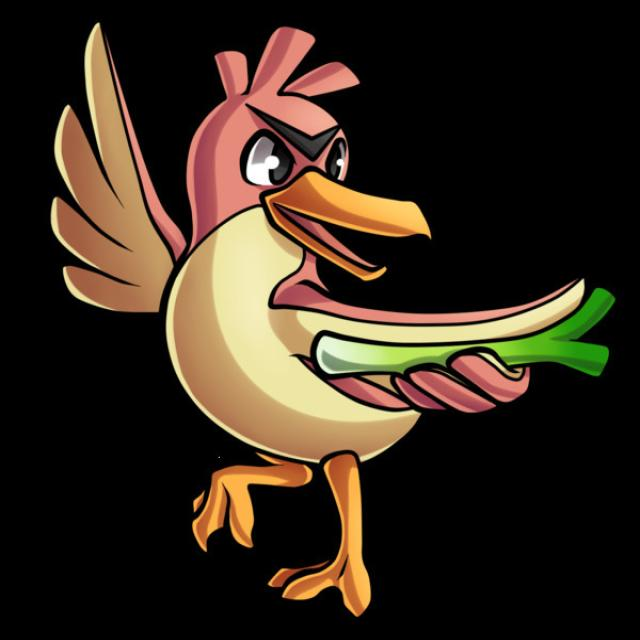Farfetchd: (133, 26, 542, 526)
